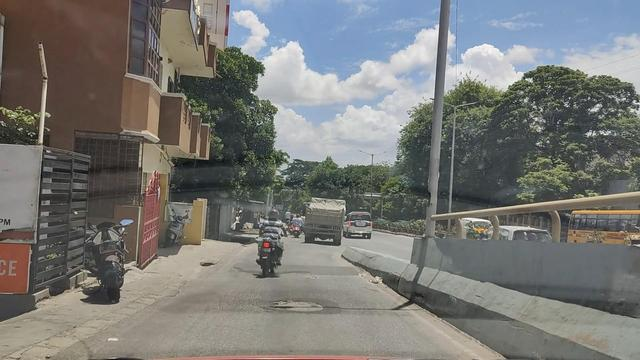HMV: (301, 196, 349, 249)
LMV: (75, 209, 140, 308)
RoadDamages: (256, 290, 347, 324), (195, 254, 220, 274)
